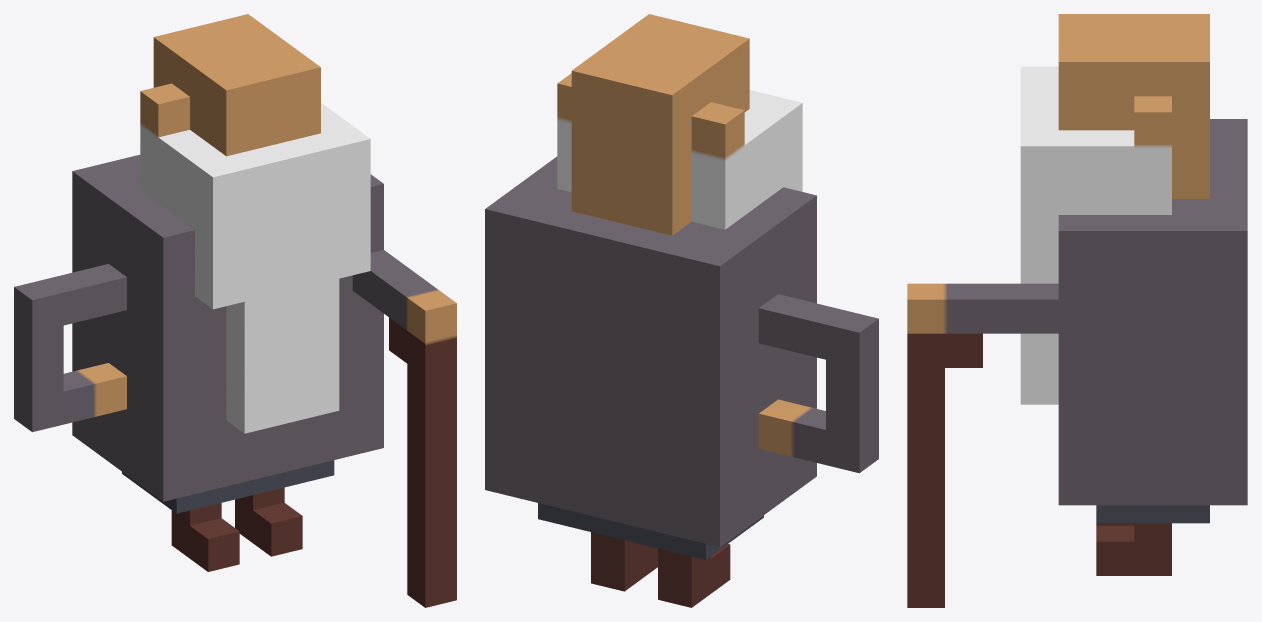
3 renders of one model, left to right at view 1: azimuth 30°, elevation 25°; view 2: azimuth 150°, elevation 25°; view 3: azimuth 270°, elevation 25°, orthographic. The views are drawn at different scales.
Visible parts, largest first — view 1: Old_Man; view 2: Old_Man; view 3: Old_Man.
Part boxes in pixels (box(x1,y1,x2,y2)): Old_Man: box(14, 14, 456, 607); Old_Man: box(485, 14, 878, 607); Old_Man: box(907, 14, 1247, 607).
Size of the model in its own units: 0.625 by 0.9375 by 0.5625.
